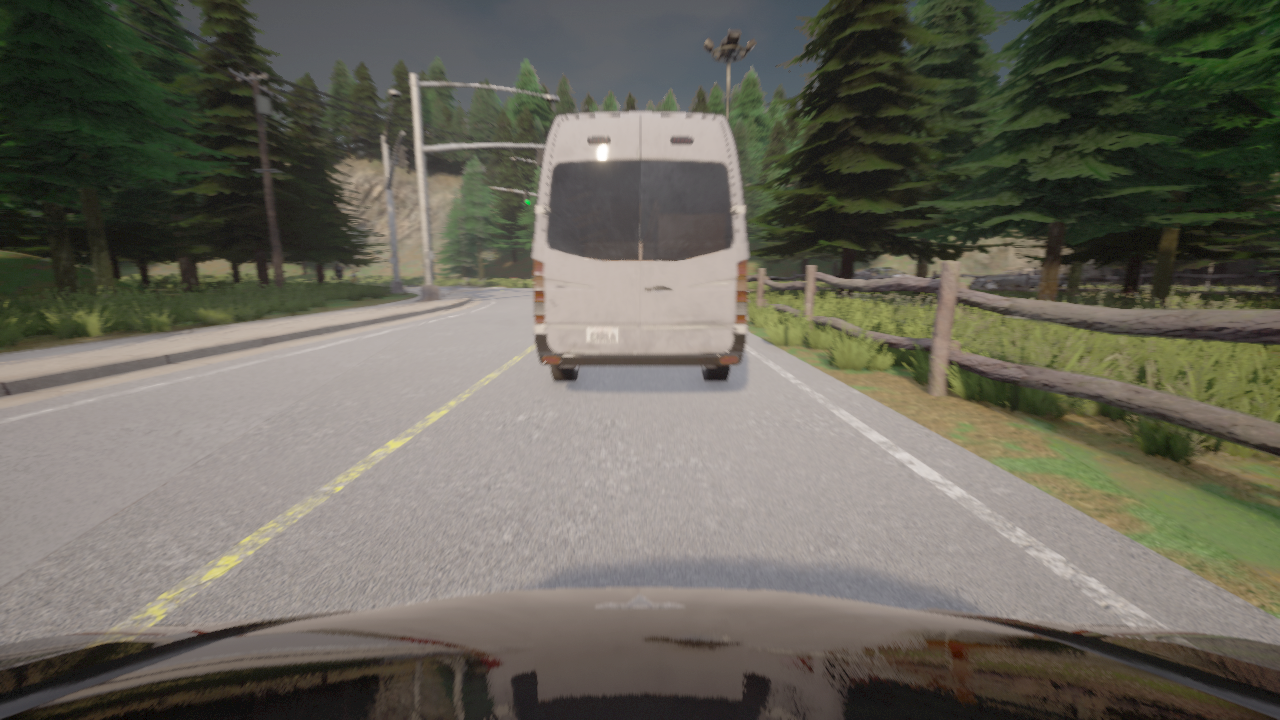cyclist: (0, 588, 1279, 719), (533, 112, 747, 382), (970, 268, 1066, 289), (854, 268, 914, 280)
pedestrian: (335, 262, 342, 282), (350, 271, 356, 282)
